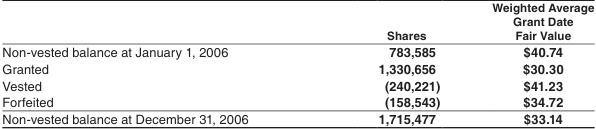table: (1, 0, 593, 125)
table column: (1, 0, 312, 125), (312, 0, 465, 125), (465, 0, 593, 125)
table column header: (1, 0, 593, 42)
table row: (1, 0, 593, 42), (1, 42, 593, 59), (1, 59, 593, 76), (1, 76, 593, 93), (1, 93, 593, 110), (1, 110, 593, 125)
